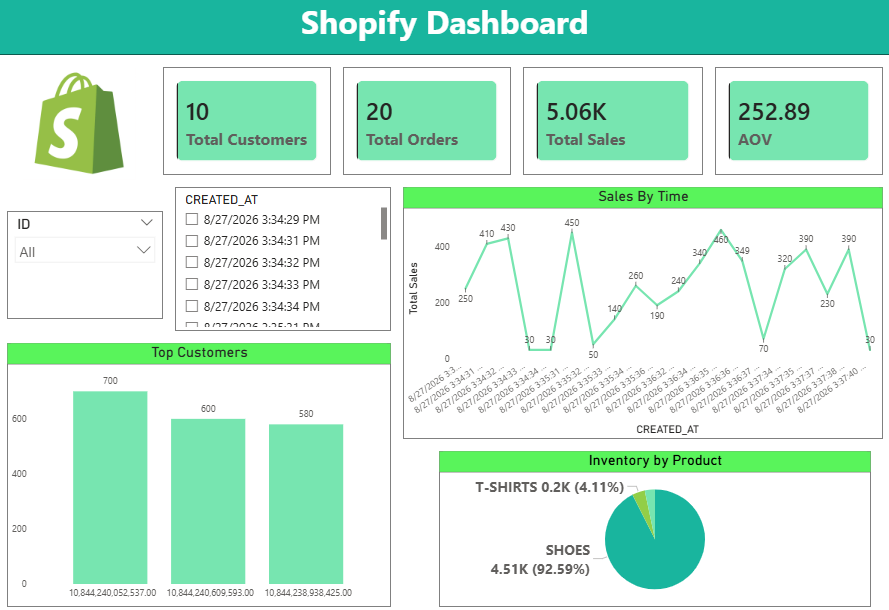

The dashboard page shown, as its layout file describes it:
{"tool":"powerbi","page":{"name":"Page 1","canvas":[1200,820],"ordinal":0},"visuals":[{"type":"cardVisual","fields":{"Data":["CUSTOMER.Total Customers"]},"box":[224,96,224,144],"z":0},{"type":"cardVisual","fields":{"Data":["ORDER.Total Orders"]},"box":[464,96,224,144],"z":1000},{"type":"cardVisual","fields":{"Data":["ORDER.Total Sales"]},"box":[704,96,240,144],"z":2000},{"type":"cardVisual","fields":{"Data":["ORDER.AOV"]},"box":[960,96,224,144],"z":3000},{"type":"lineChart","title":"Sales By Time","fields":{"Y":["ORDER.Total Sales"],"Category":["ORDER.CREATED_AT"]},"box":[544,256,640,336],"z":4000},{"type":"pieChart","title":"Inventory by Product","fields":{"Category":["PRODUCT.PRODUCT_TYPE"],"Y":["Sum(PRODUCT.TOTAL_INVENTORY)"]},"box":[592,608,576,208],"z":5000},{"type":"clusteredColumnChart","title":"Top Customers","fields":{"Category":["CUSTOMER.ID"],"Y":["Sum(CUSTOMER.TOTAL_SPENT)"]},"box":[16,464,512,352],"z":6000},{"type":"textbox","box":[0,0,1200,80],"z":7000},{"type":"slicer","fields":{"Values":["ORDER.CREATED_AT"]},"box":[240,256,288,192],"z":8000},{"type":"slicer","fields":{"Values":["CUSTOMER.ID"]},"box":[16,288,208,144],"z":9000},{"type":"image","box":[0,96,224,150],"z":10000}]}

Visuals, with their boxes in screenshot pixels (x1, y1, x2, y2), scaled from the page's 1200x820 canvas onto the 889x610 screenshot:
cardVisual - CUSTOMER.Total Customers: (left=166, top=71, right=332, bottom=179)
cardVisual - ORDER.Total Orders: (left=344, top=71, right=510, bottom=179)
cardVisual - ORDER.Total Sales: (left=522, top=71, right=699, bottom=179)
cardVisual - ORDER.AOV: (left=711, top=71, right=877, bottom=179)
"Sales By Time" lineChart: (left=403, top=190, right=877, bottom=440)
"Inventory by Product" pieChart: (left=439, top=452, right=865, bottom=607)
"Top Customers" clusteredColumnChart: (left=12, top=345, right=391, bottom=607)
textbox: (left=0, top=0, right=888, bottom=60)
slicer - ORDER.CREATED_AT: (left=178, top=190, right=391, bottom=333)
slicer - CUSTOMER.ID: (left=12, top=214, right=166, bottom=321)
image: (left=0, top=71, right=166, bottom=183)
